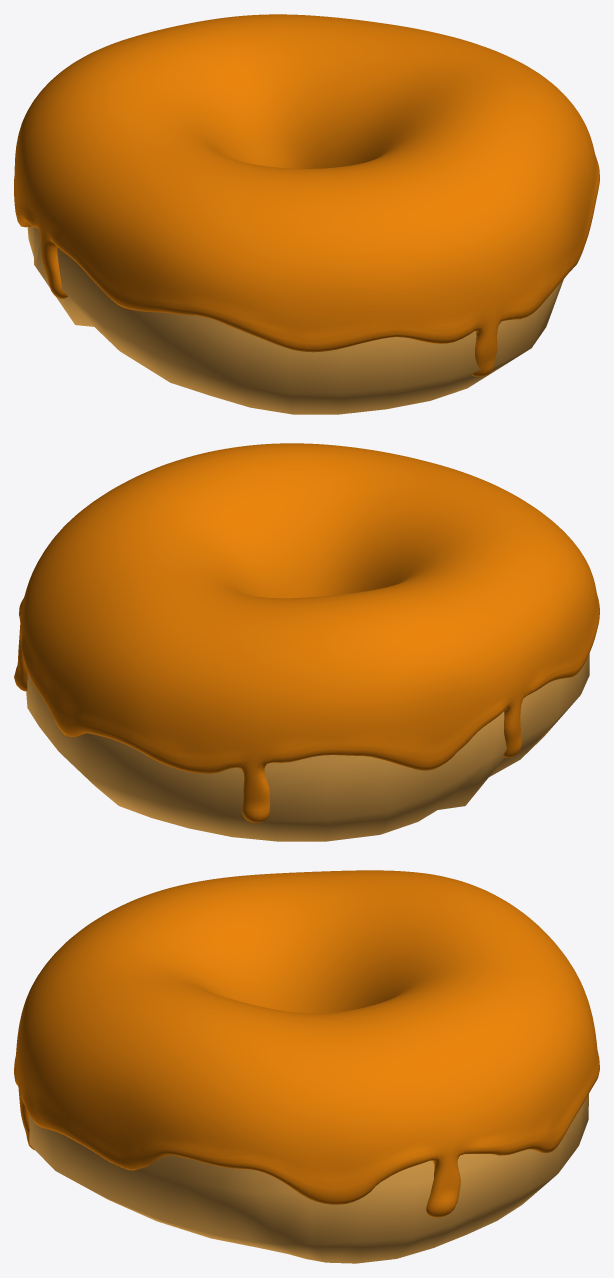
Rendered from donut.glb.
The picture shows the model from 3 angles, top to bottom: view 1: azimuth 30°, elevation 25°; view 2: azimuth 150°, elevation 25°; view 3: azimuth 270°, elevation 25°; orthographic projection. The views are drawn at different scales.
Parts seen in each view (by area): view 1: icing.001, dount; view 2: icing.001, dount; view 3: icing.001, dount.
Boxes of the visible parts, x1=… form: icing.001: x1=14, y1=14, x2=599, y2=376; dount: x1=27, y1=226, x2=563, y2=414; icing.001: x1=14, y1=443, x2=599, y2=822; dount: x1=26, y1=653, x2=589, y2=841; icing.001: x1=14, y1=870, x2=599, y2=1217; dount: x1=29, y1=1094, x2=588, y2=1263.
Bounding box in the file's own units: 1.21 × 0.5501 × 1.26.
